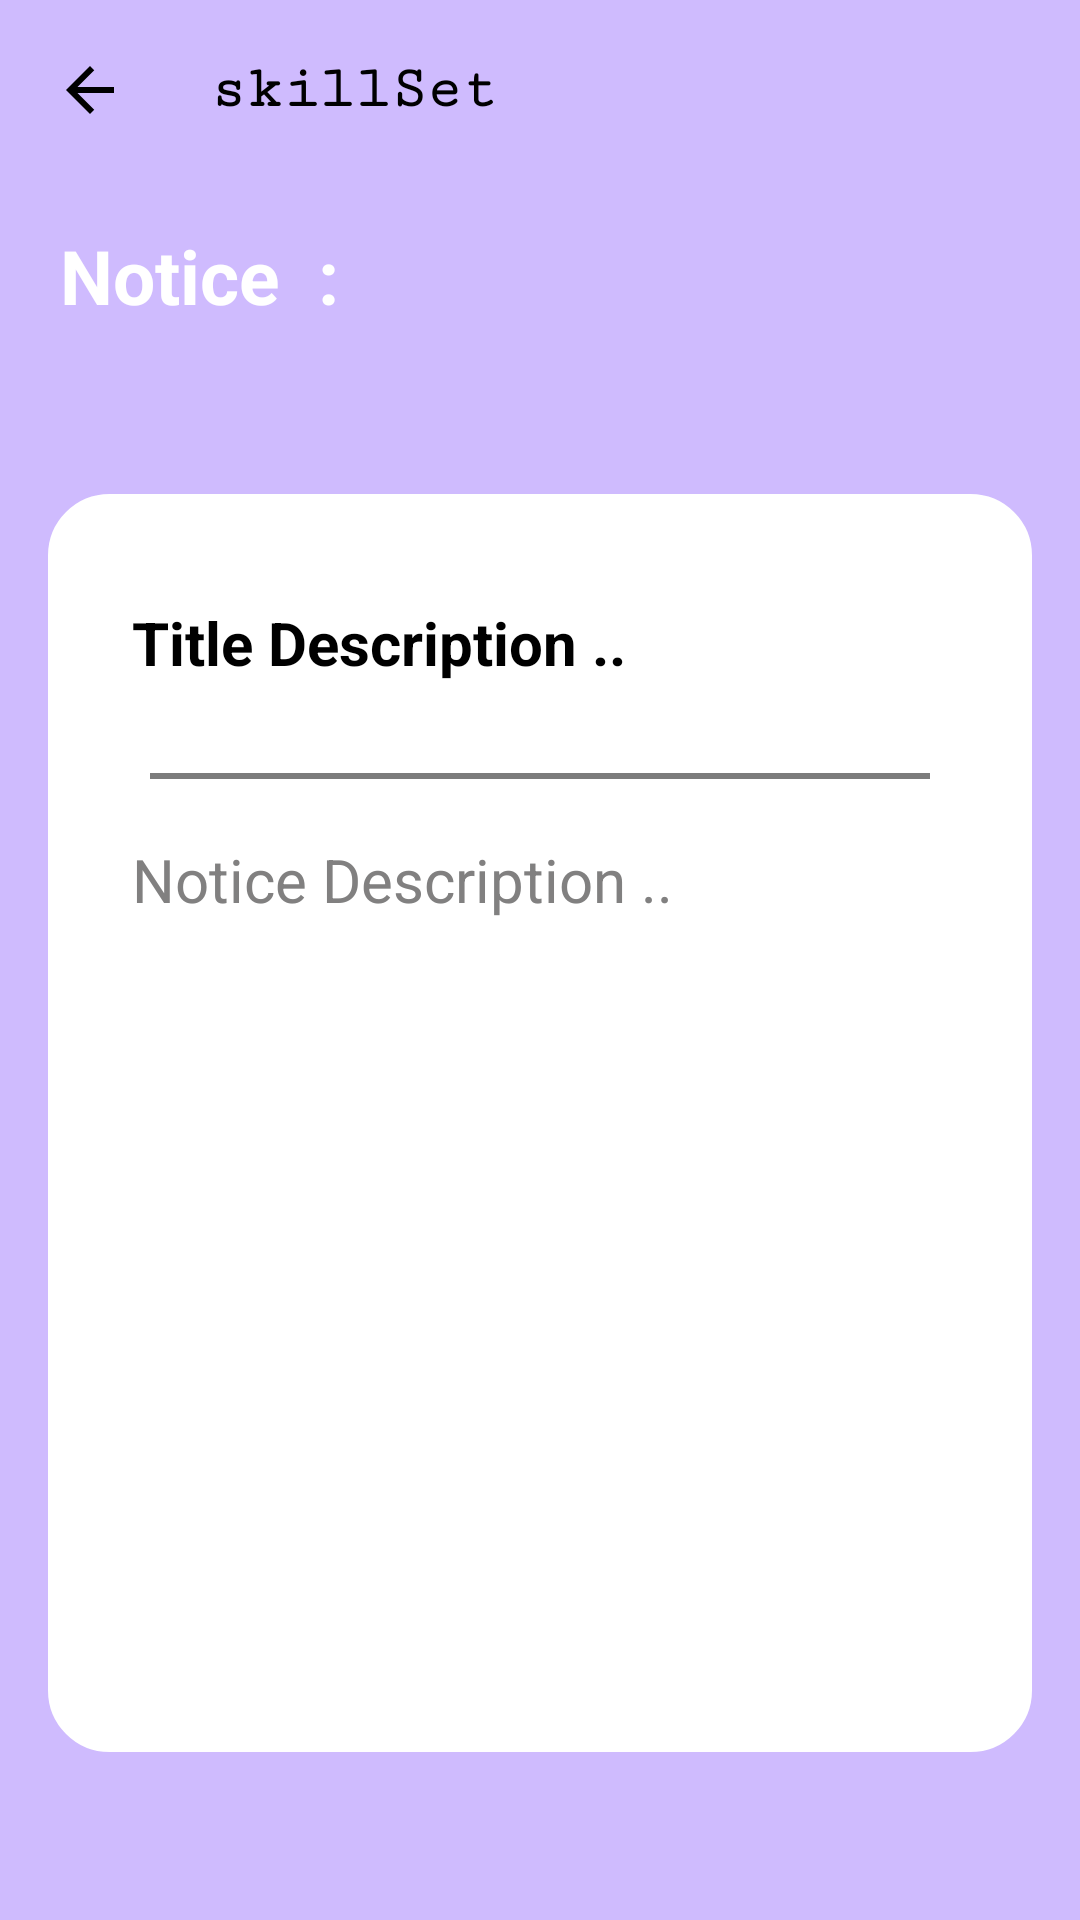

Icons on this 1080×1920 Android screen, each with its box as (x1, y1, x2, y2):
file back: (66, 66, 114, 114)
